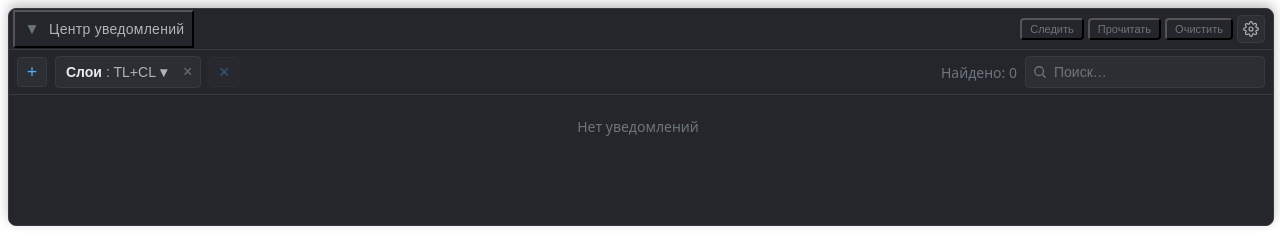
Test: NotificationDock › scroll away pauses live-tail; Следить resumes
(page scrolled)
What coordinates should you click on to do the following:
click the button "Следить"
I would click on:
 (1052, 29)
Its box is [1020,18,1084,40].
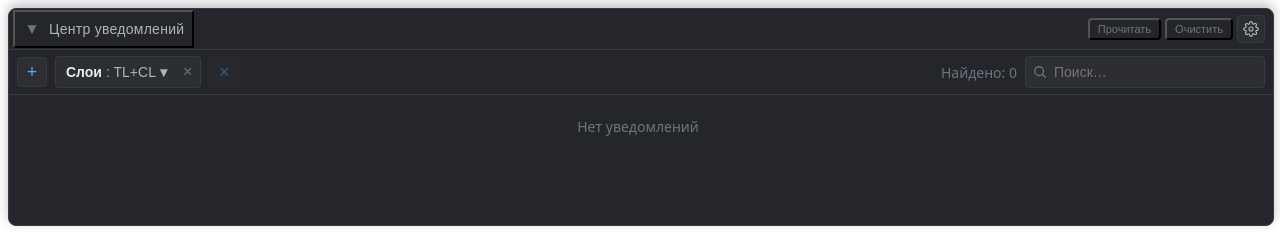
Now the button "Следить" is gone
